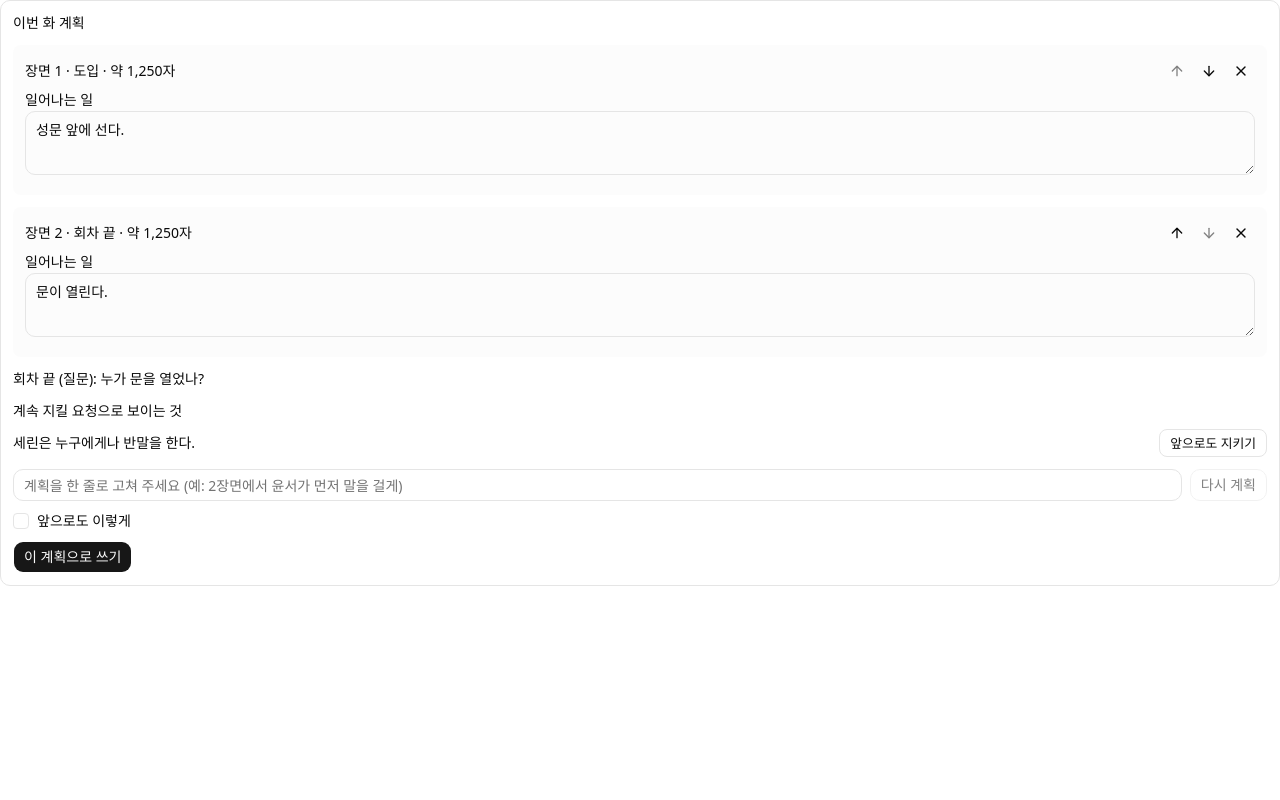
Test case: DraftPlanCardView keep guard (stage 2 review) › creates one request for a double click on 앞으로도 지키기
Click the button "앞으로도 지키기": (1213, 443) x1=1159 y1=429 x2=1267 y2=457
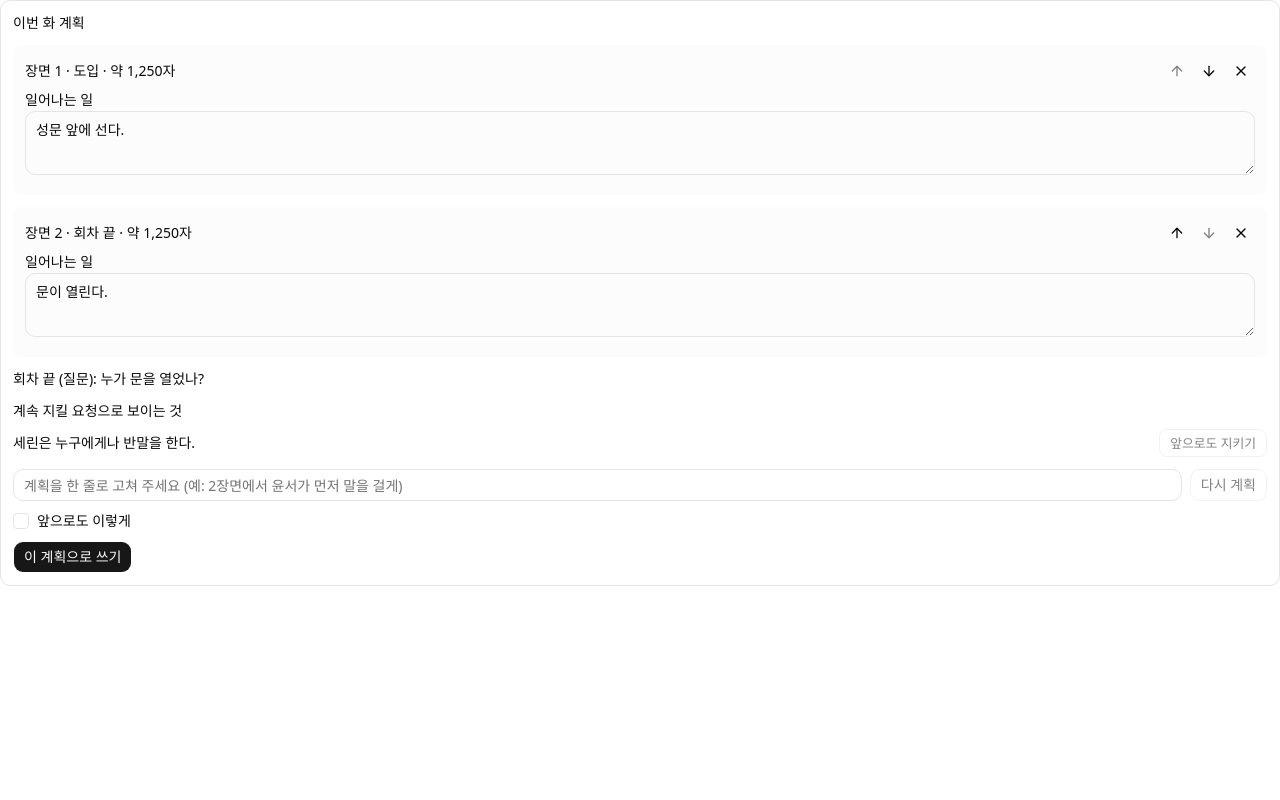
Click the button "앞으로도 지키기": (1213, 443) x1=1159 y1=429 x2=1267 y2=457
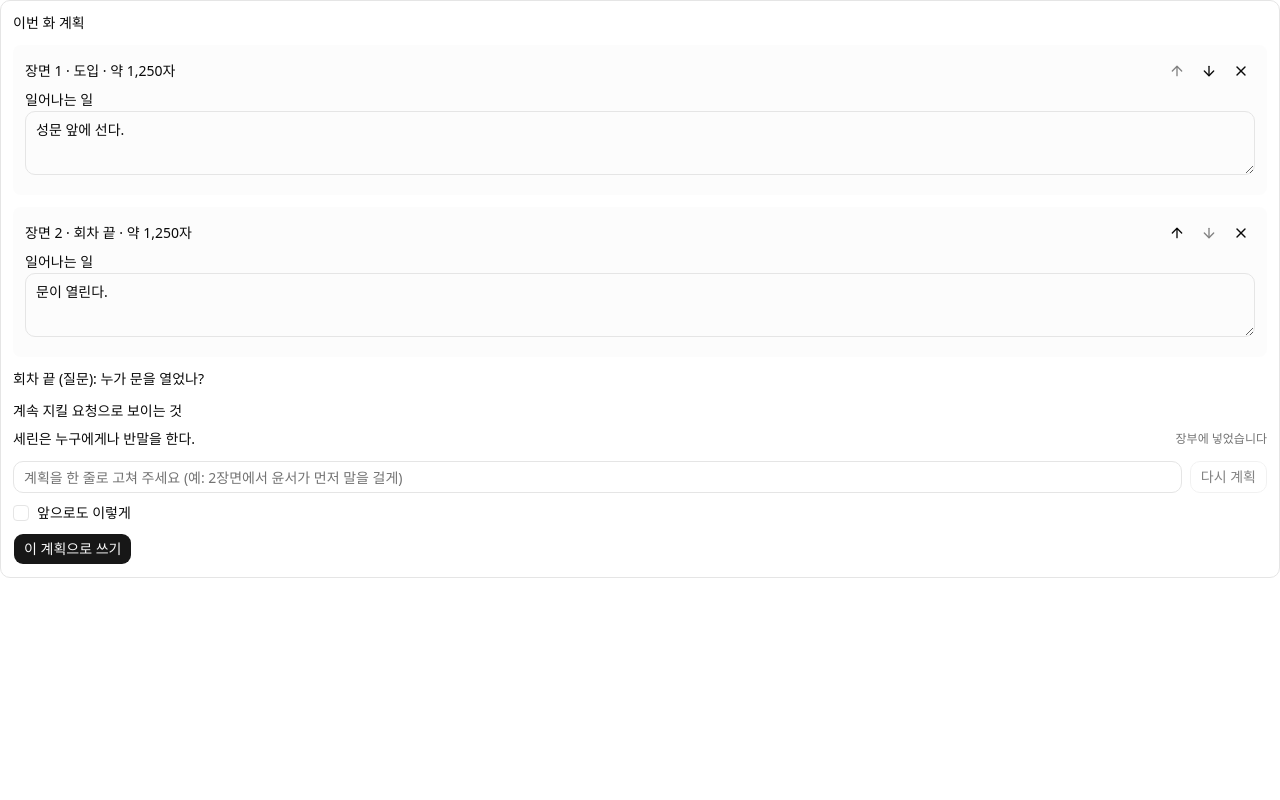
Expected: the text "장부에 넣었습니다" is shown, x1=1176 y1=431 x2=1267 y2=447
